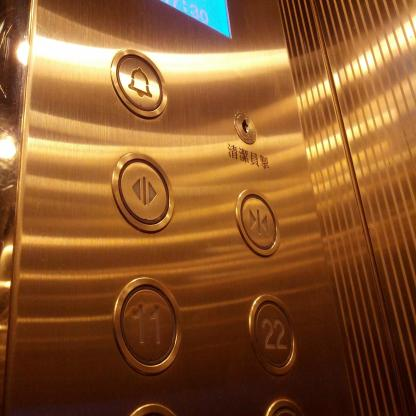11: (112, 276, 182, 373)
22: (248, 294, 297, 375)
alarm: (112, 47, 170, 118)
close: (234, 185, 280, 257)
keyhole: (230, 107, 259, 145)
open: (111, 150, 175, 233)
